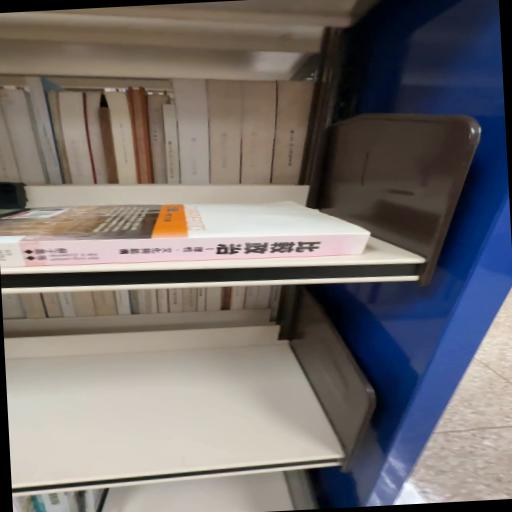flat: (0, 202, 370, 268)
